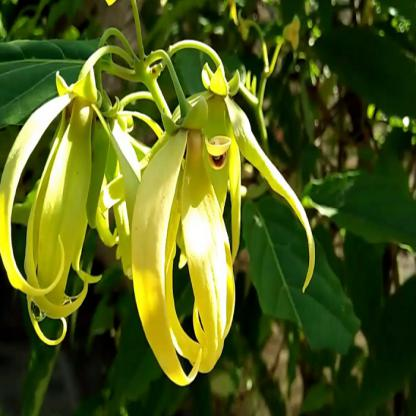Kenanga: (142, 84, 261, 341), (35, 44, 112, 333)
